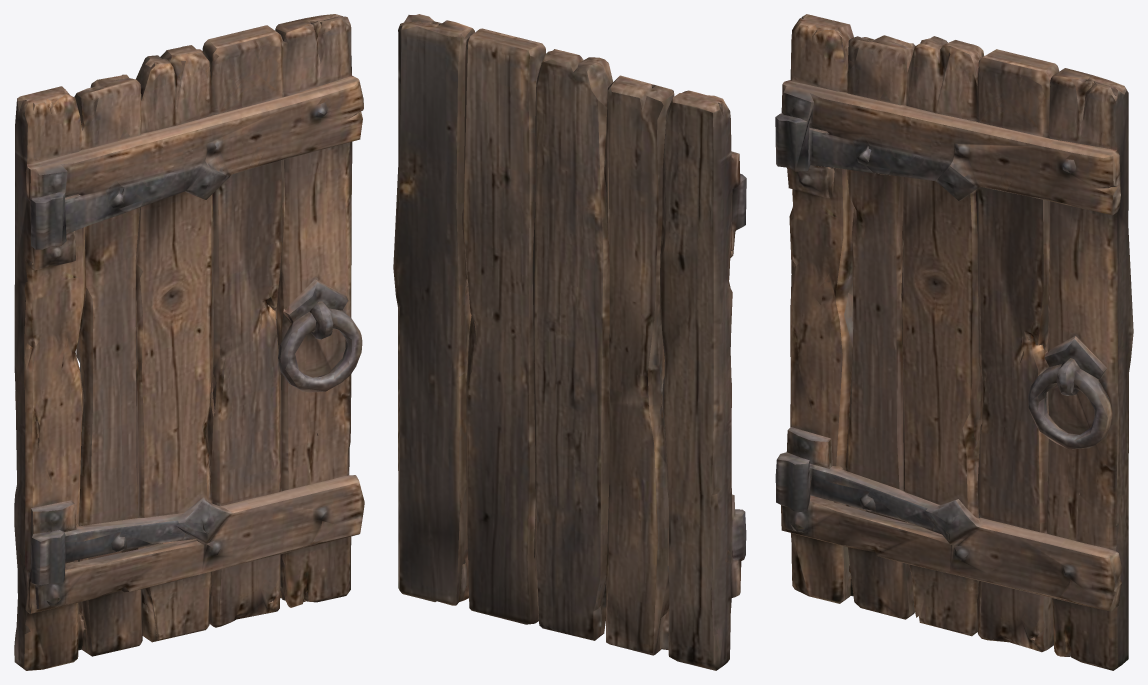
The picture shows the model from 3 angles, left to right: view 1: azimuth 30°, elevation 25°; view 2: azimuth 150°, elevation 25°; view 3: azimuth 330°, elevation 25°; orthographic projection.
Parts seen in each view (by area): view 1: geometry_0; view 2: geometry_0; view 3: geometry_0.
Part boxes in pixels (x1=…): geometry_0: x1=14, y1=14, x2=364, y2=670; geometry_0: x1=393, y1=14, x2=746, y2=670; geometry_0: x1=775, y1=14, x2=1133, y2=670.
Size of the model in its own units: 1.2 by 1.97 by 0.192.
Materials: 1 (1 with a texture image).
